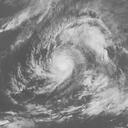cyclone: (26, 5, 115, 108)
